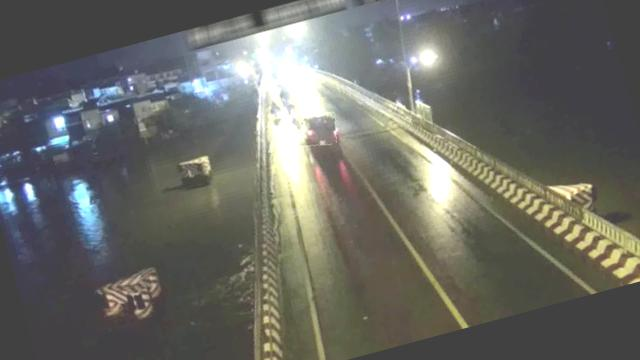Car: (297, 107, 340, 150)
